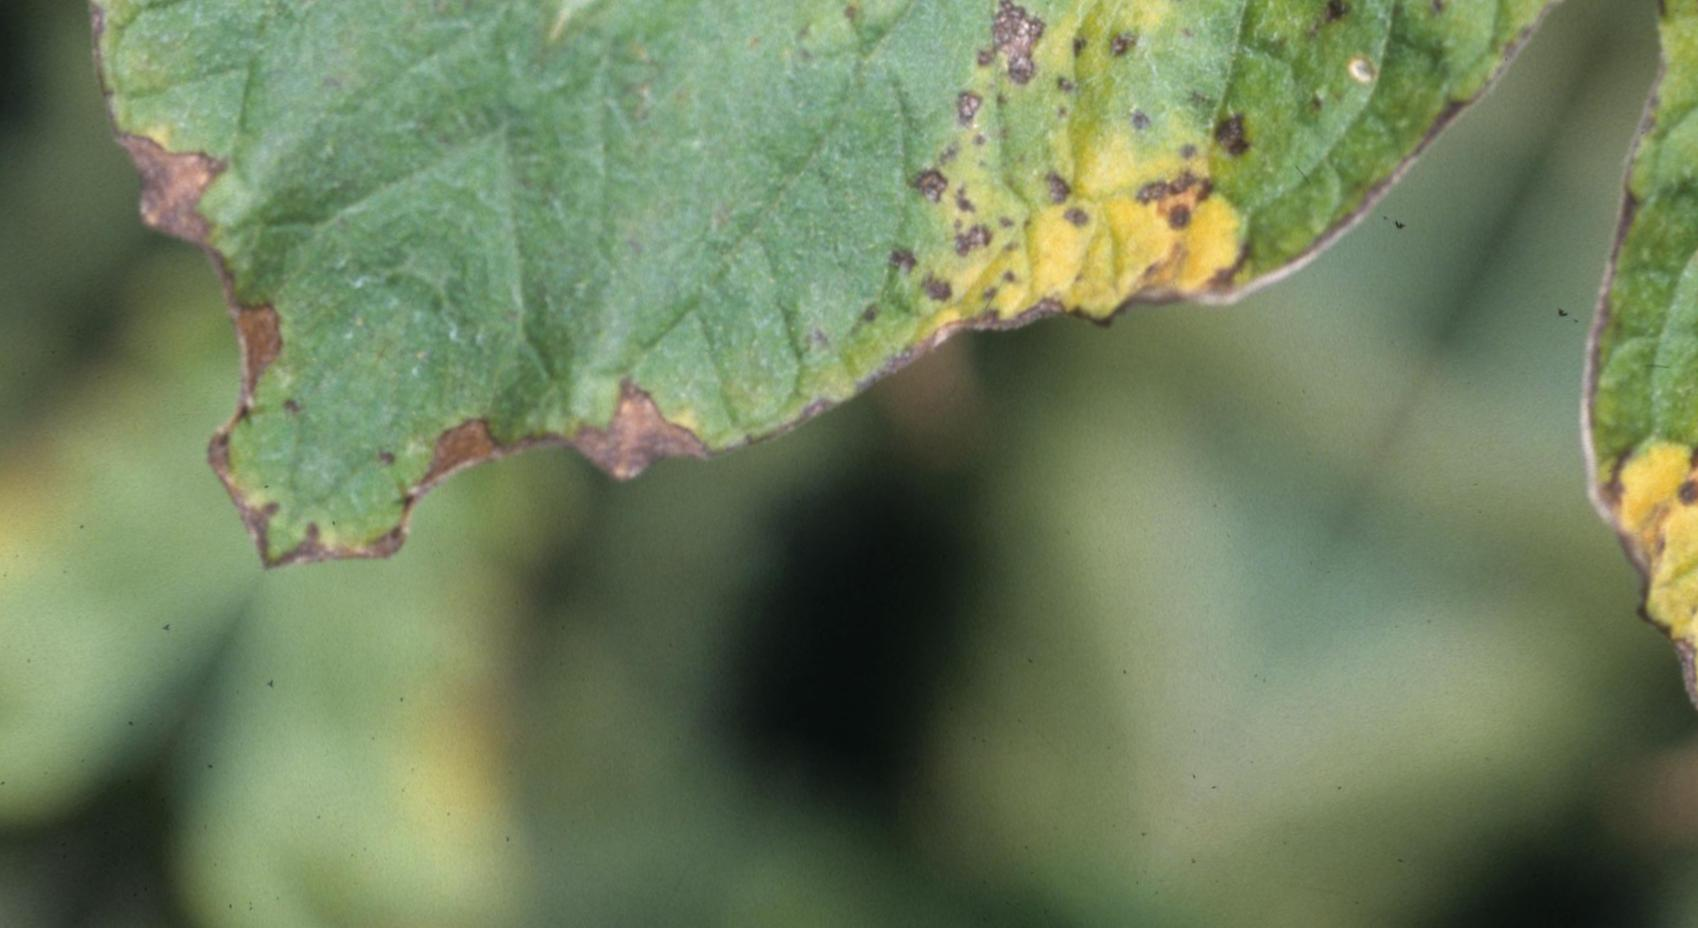Tomato leaf bacterial spot: (37, 0, 1661, 928)
